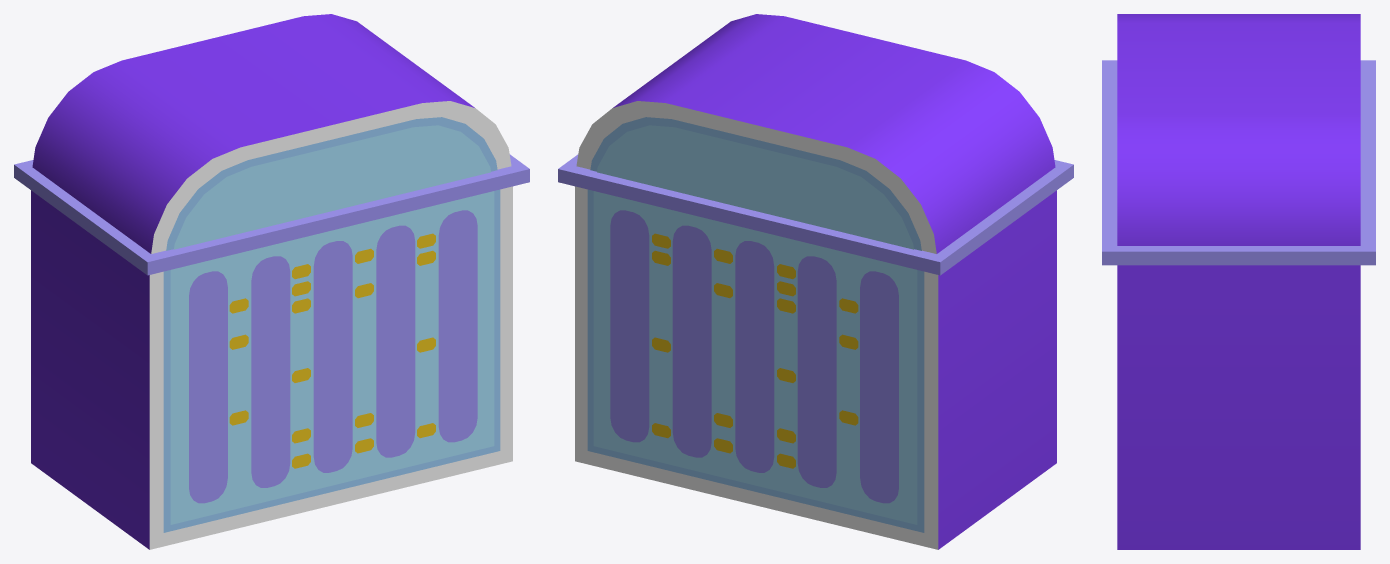
The model's file is Building_037.fbx.
3 renders of one model, left to right at view 1: azimuth 30°, elevation 25°; view 2: azimuth 150°, elevation 25°; view 3: azimuth 270°, elevation 25°, orthographic. The views are drawn at different scales.
Visible parts, largest first — view 1: Building_037; view 2: Building_037; view 3: Building_037.
Boxes of the visible parts, x1=… form: Building_037: x1=14, y1=14, x2=529, y2=549; Building_037: x1=558, y1=14, x2=1073, y2=549; Building_037: x1=1102, y1=14, x2=1375, y2=549.
Size of the model in its own units: 32.94 by 31.31 by 19.92.
